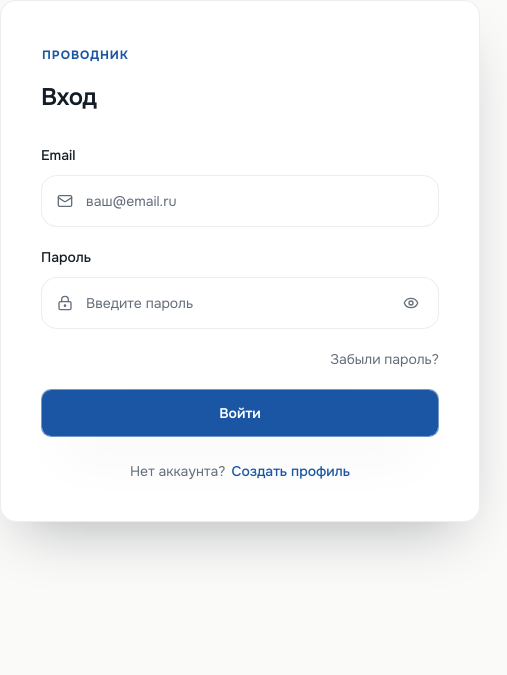
AuthEntryScreen traveler sign-in › shows an admin access error when signing into /admin without admin rights
The width and height of the screenshot is (507, 675).
Type "traveler@example.test" into the field labelled "Email" at {"x": 240, "y": 201}, box x1=41 y1=175 x2=439 y2=227
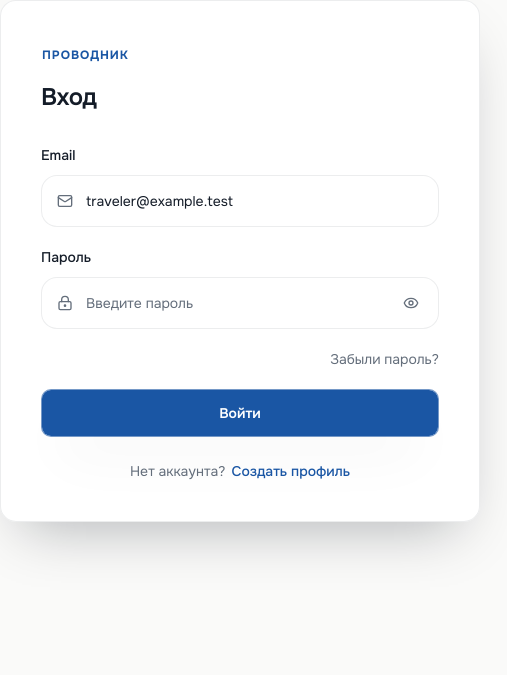
Type "Travel1234!" into the password field labelled "Пароль" at {"x": 240, "y": 303}, box x1=41 y1=277 x2=439 y2=329
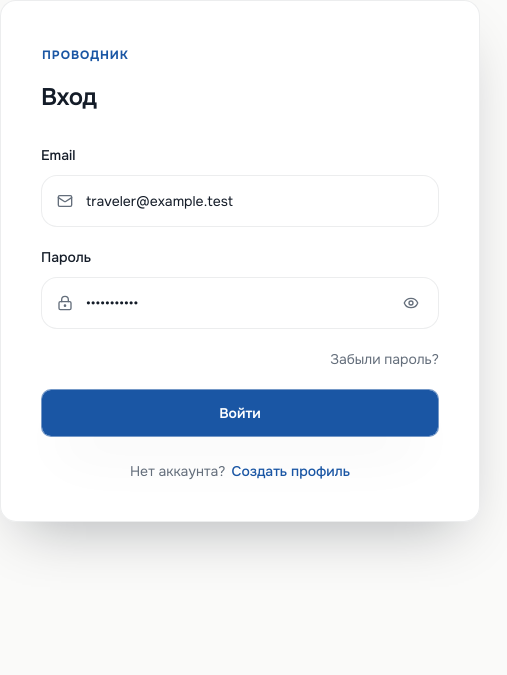
Click the button "Войти" at {"x": 240, "y": 413}, box x1=41 y1=389 x2=439 y2=437
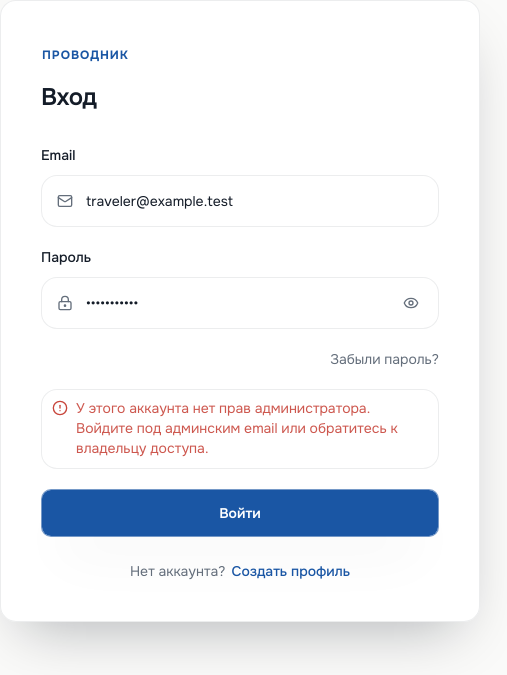
Expected: the text "нет прав администратора" is shown, x1=76 y1=399 x2=398 y2=457
